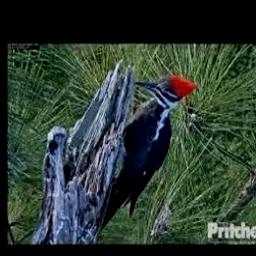Woodpecker: (98, 75, 197, 234)
